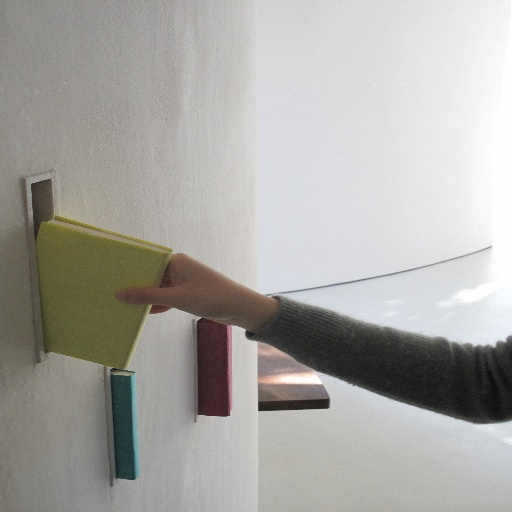hand: (160, 239, 280, 318)
